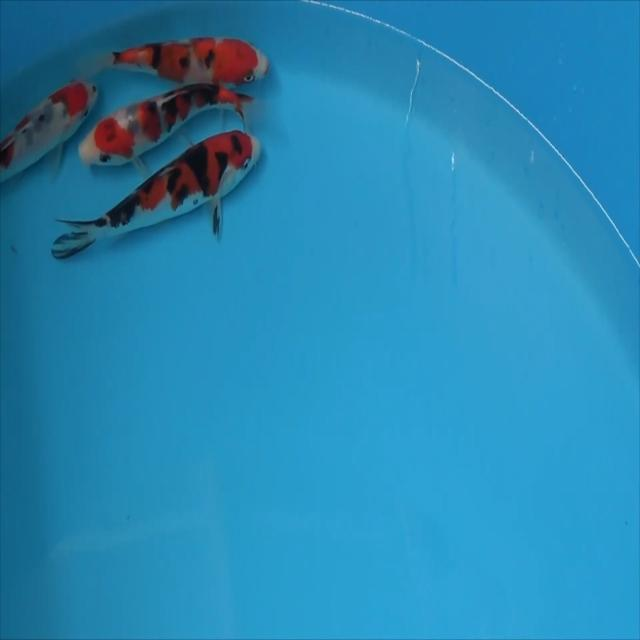Sanke: (51, 127, 261, 261), (78, 81, 255, 170), (0, 78, 98, 184), (110, 35, 270, 88)
